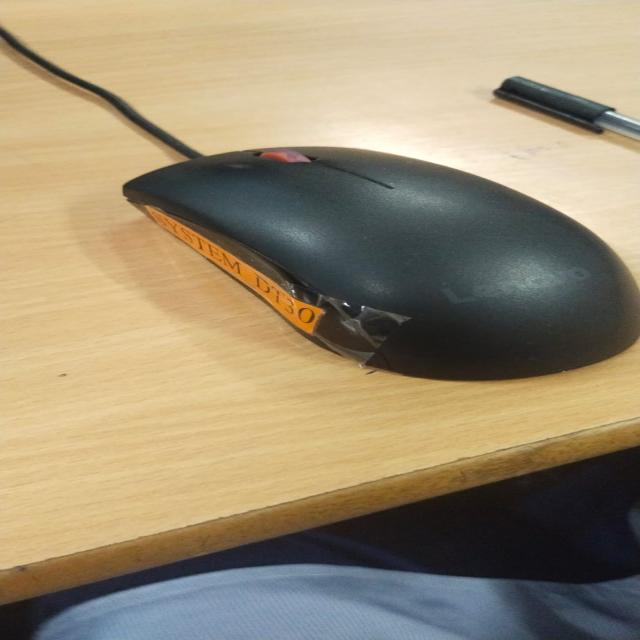mouse: (121, 134, 640, 428), (457, 70, 640, 162)
